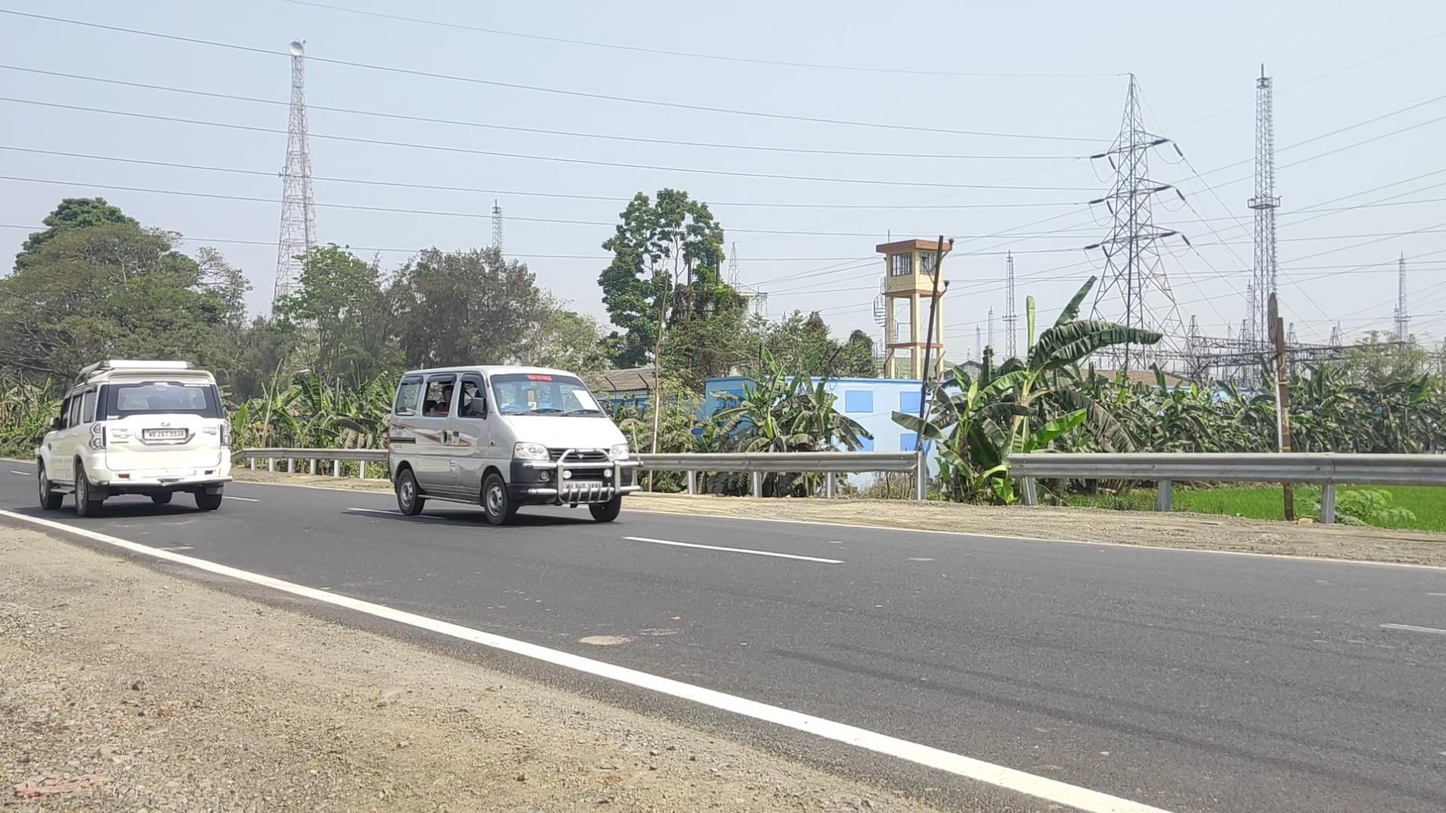car: (36, 360, 232, 518)
van: (387, 364, 643, 526)
